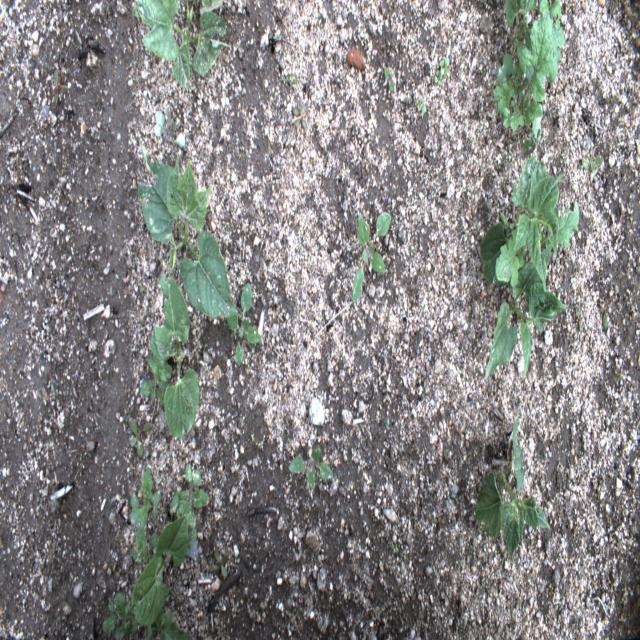crop: (478, 158, 580, 378), (139, 149, 237, 319), (475, 416, 551, 564), (143, 273, 200, 440), (495, 1, 564, 135), (132, 0, 226, 91), (131, 512, 188, 628)
weed: (103, 593, 190, 639), (352, 210, 392, 306), (225, 281, 262, 367), (128, 463, 160, 541), (169, 465, 209, 525), (286, 444, 332, 492), (129, 417, 150, 459), (51, 67, 68, 108), (212, 548, 228, 580), (435, 55, 451, 81), (292, 102, 306, 128), (600, 306, 611, 335), (385, 66, 395, 94), (575, 308, 582, 336)
